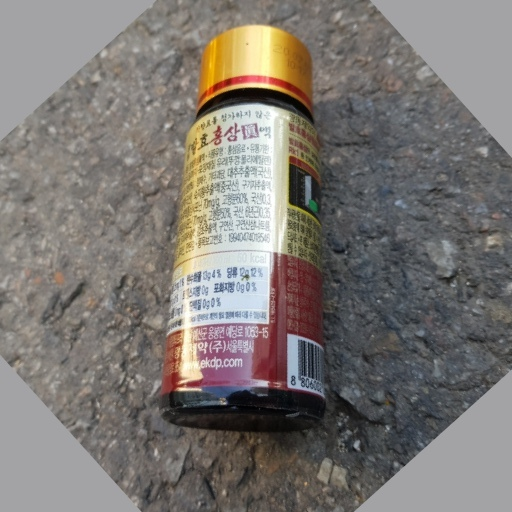Glass_3: (148, 21, 331, 430)
